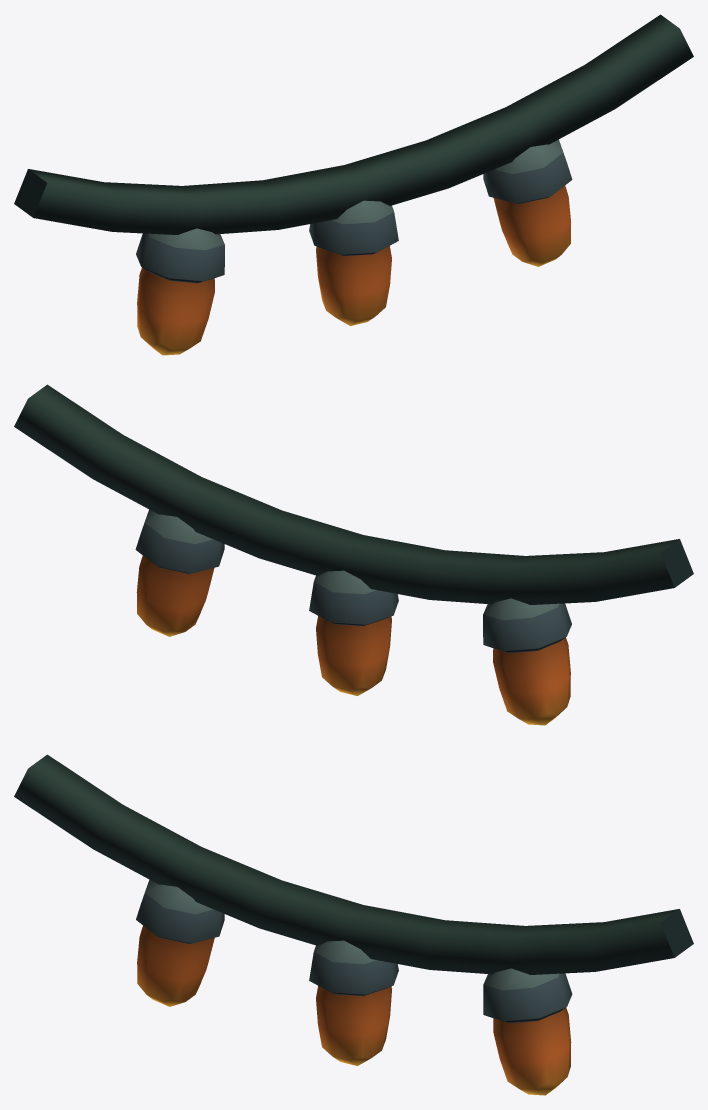
Rendered from light_cable1_2_LOD_setup.fbx.
3 views of the same model, one above another, from view 1: azimuth 30°, elevation 25°; view 2: azimuth 150°, elevation 25°; view 3: azimuth 330°, elevation 25° (orthographic).
Visible parts, largest first — view 1: light_cable1_2_LOD0; view 2: light_cable1_2_LOD0; view 3: light_cable1_2_LOD0.
Boxes of the visible parts, x1,y1,x2,y2 form: light_cable1_2_LOD0: (14, 14, 693, 355); light_cable1_2_LOD0: (14, 384, 693, 725); light_cable1_2_LOD0: (14, 754, 693, 1095).
Size of what is drawn, in the model's own units: 198 by 63.48 by 23.8.
